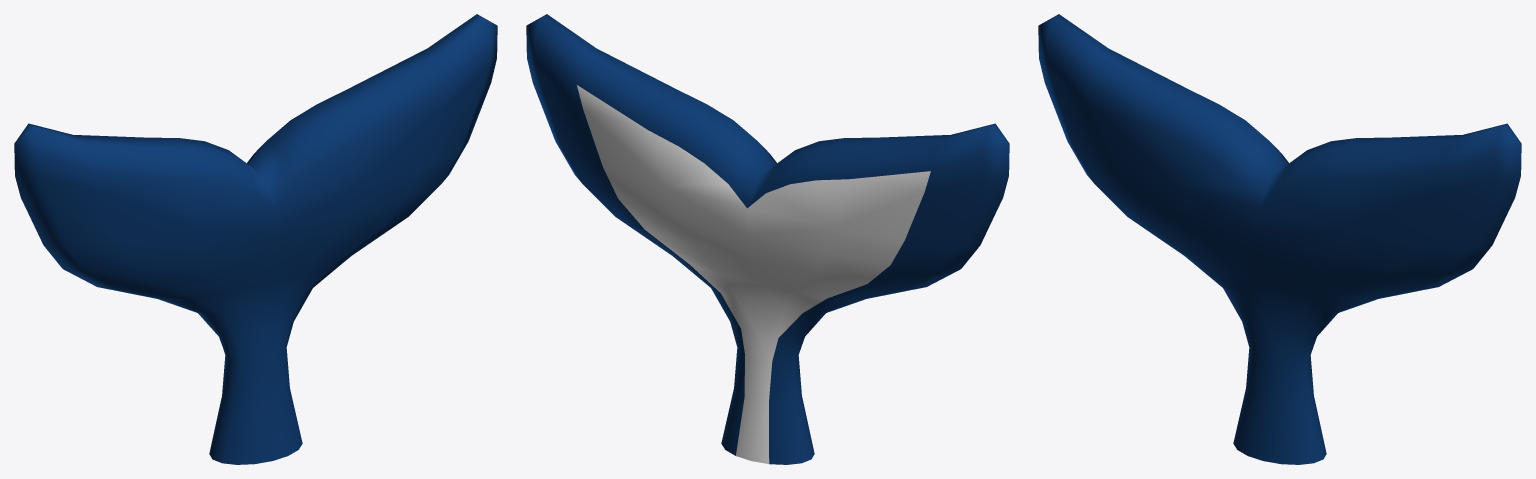
The picture shows the model from 3 angles, left to right: view 1: azimuth 30°, elevation 25°; view 2: azimuth 150°, elevation 25°; view 3: azimuth 330°, elevation 25°; orthographic projection.
Parts seen in each view (by area): view 1: TileWhaleTail; view 2: TileWhaleTail; view 3: TileWhaleTail.
Boxes of the visible parts, box(x1,y1,x2,y2) form: TileWhaleTail: box(14, 14, 497, 464); TileWhaleTail: box(526, 14, 1009, 464); TileWhaleTail: box(1038, 14, 1521, 464).
Size of what is drawn, in the model's own units: 4.66 by 3.48 by 0.6926.
Materials: 1 (1 with a texture image).
